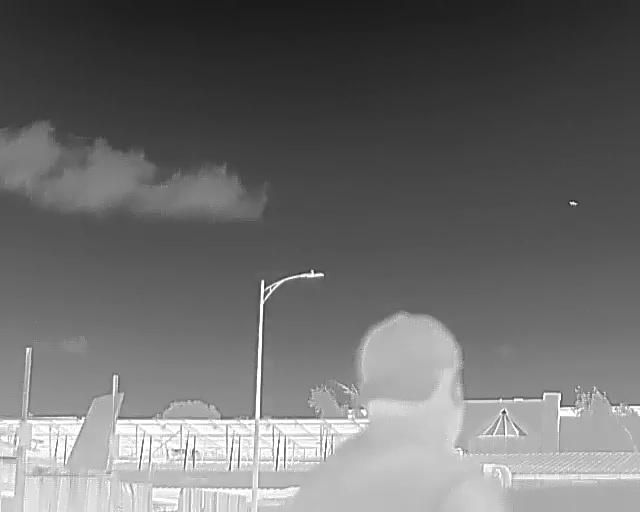fpv-drone: (568, 200, 579, 208)
